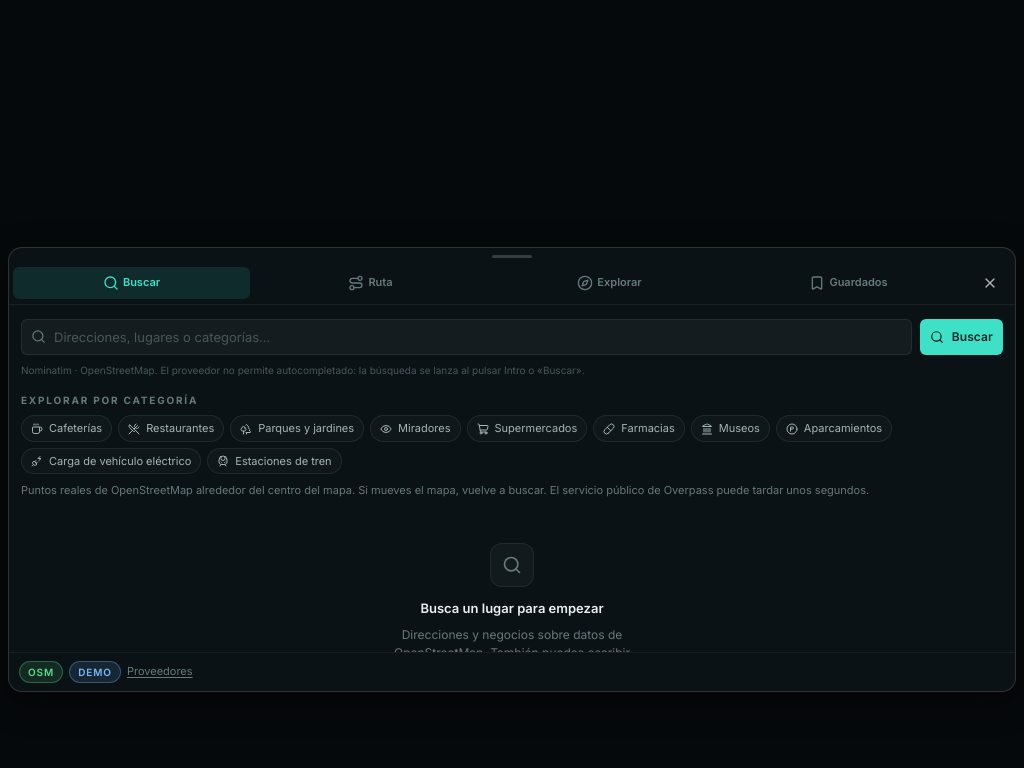
Test: bottom sheet móvil › arrastra hacia arriba, actualiza la altura en vivo y hace snap
Step 1. Press the mouse on the button named "Expandir panel" → (512, 257), box [470,248,554,266]
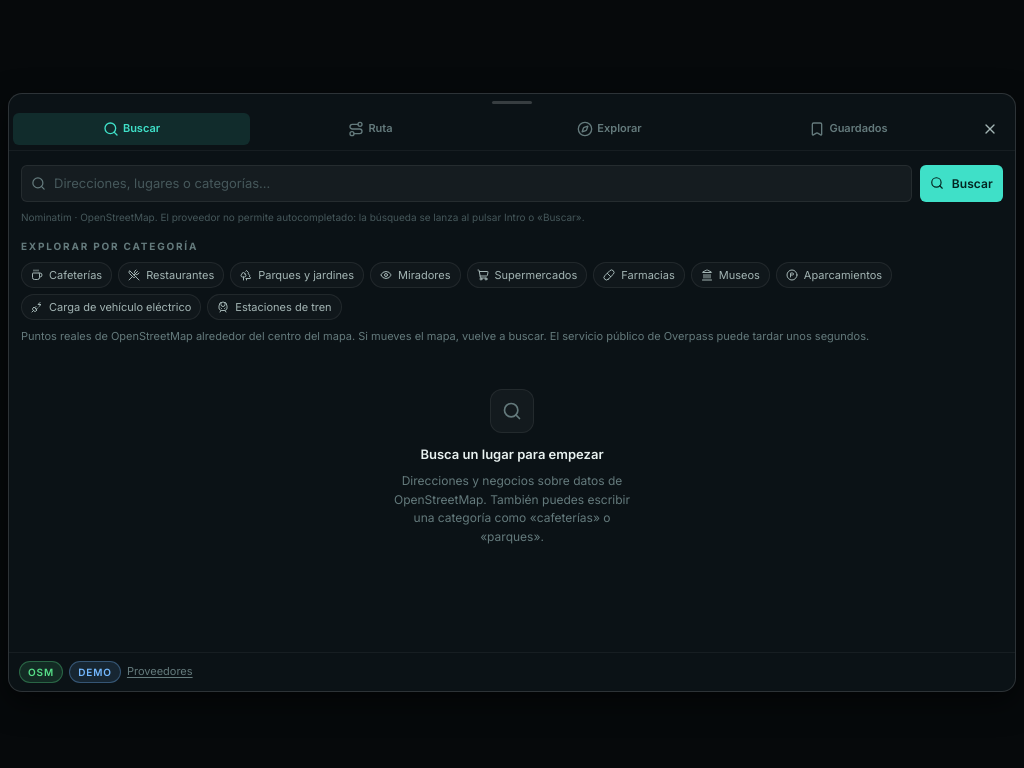
Now the button named "Contraer panel" is expanded, box [470,94,554,112]
